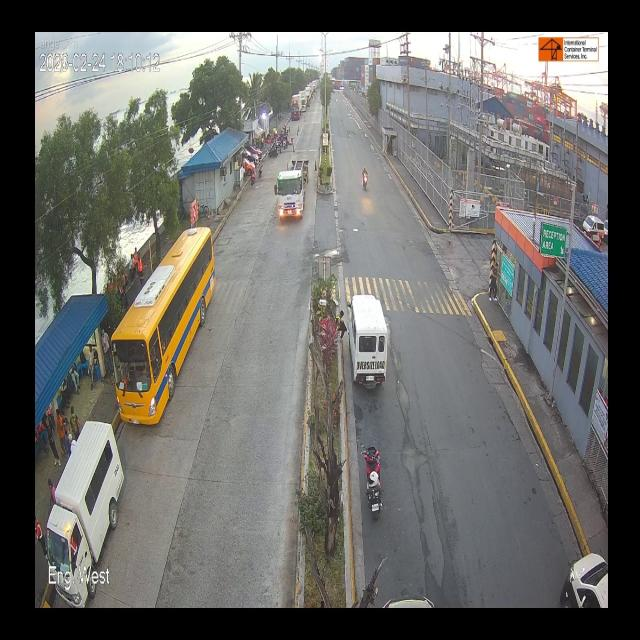bus: (106, 221, 216, 444)
car: (50, 436, 122, 570), (350, 296, 394, 408), (565, 555, 608, 613)
motorcycle: (360, 441, 388, 523), (360, 163, 372, 194)
truck: (272, 156, 318, 228), (291, 95, 301, 126)
